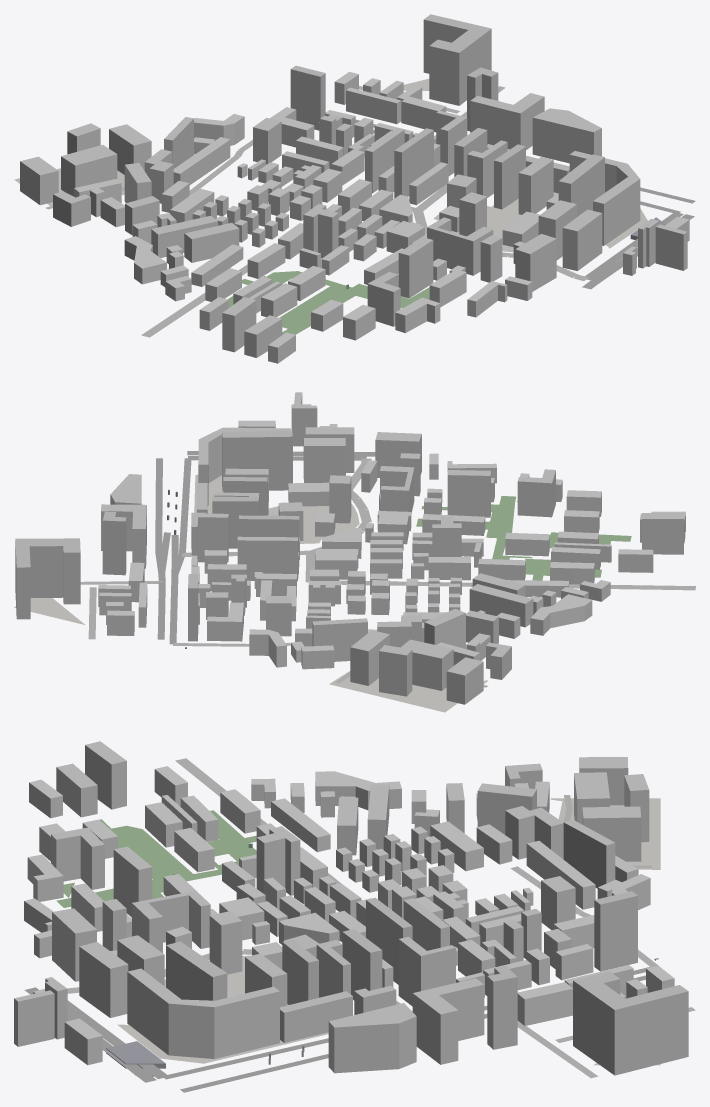
3 renders of one model, top to bottom at view 1: azimuth 30°, elevation 25°; view 2: azimuth 150°, elevation 25°; view 3: azimuth 270°, elevation 25°, orthographic. The views are drawn at different scales.
Size of the model in its own units: 627 by 69.95 by 541.
